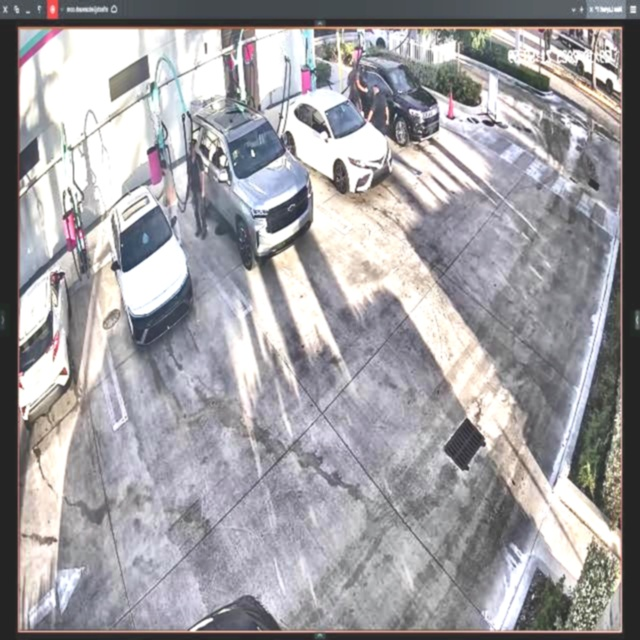Car: (196, 99, 311, 266), (110, 189, 191, 346), (278, 89, 389, 191)
